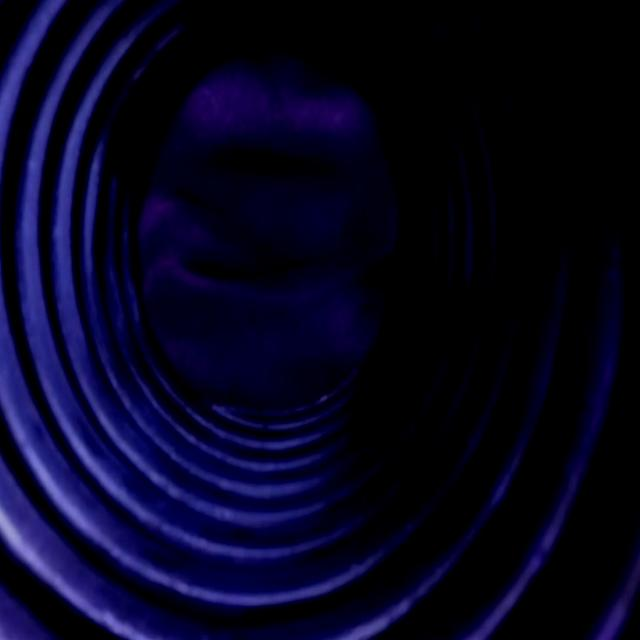block: (134, 52, 401, 414)
